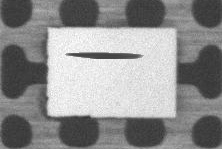DIE_INK: (92, 34, 218, 40)
